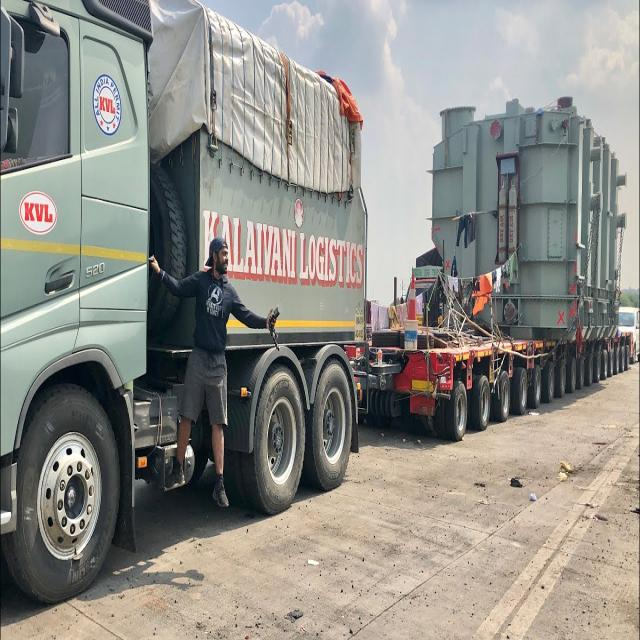truck: (0, 0, 629, 602)
